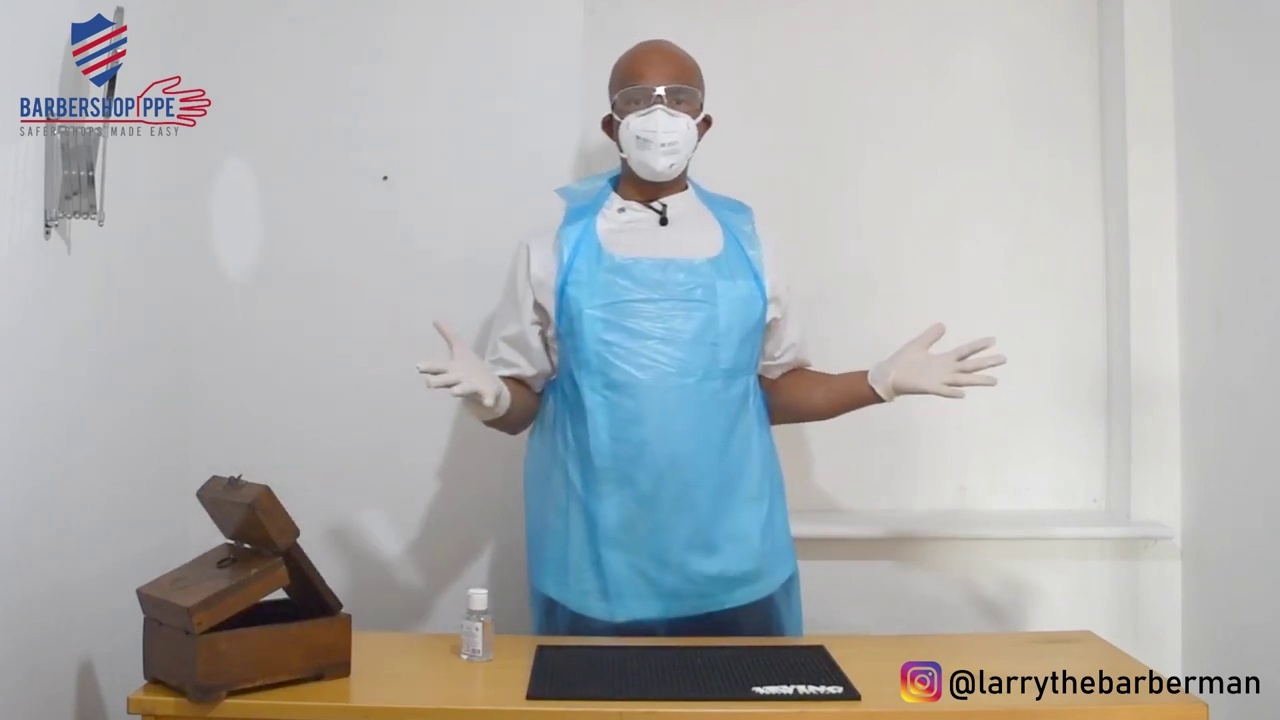Apron: (511, 173, 788, 644)
Glove: (859, 316, 1003, 421), (409, 305, 506, 427)
Mask: (597, 103, 707, 185)
No_Hairnet: (592, 32, 703, 89)
